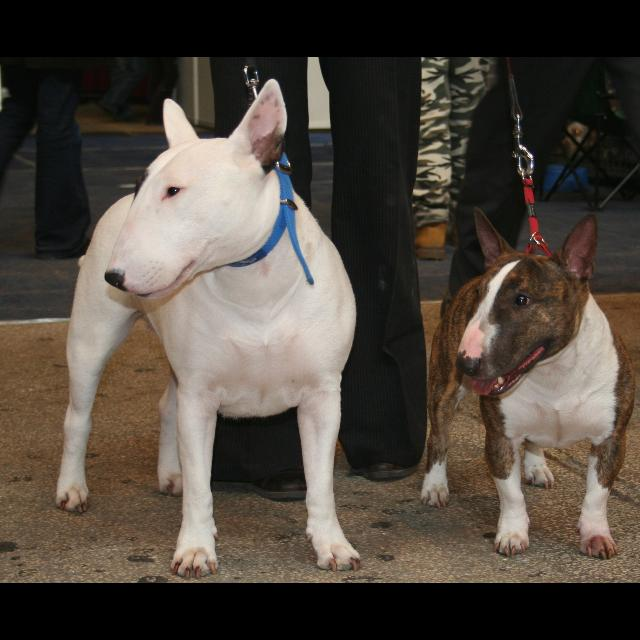bullterrier: (56, 79, 364, 582), (421, 207, 637, 562)
